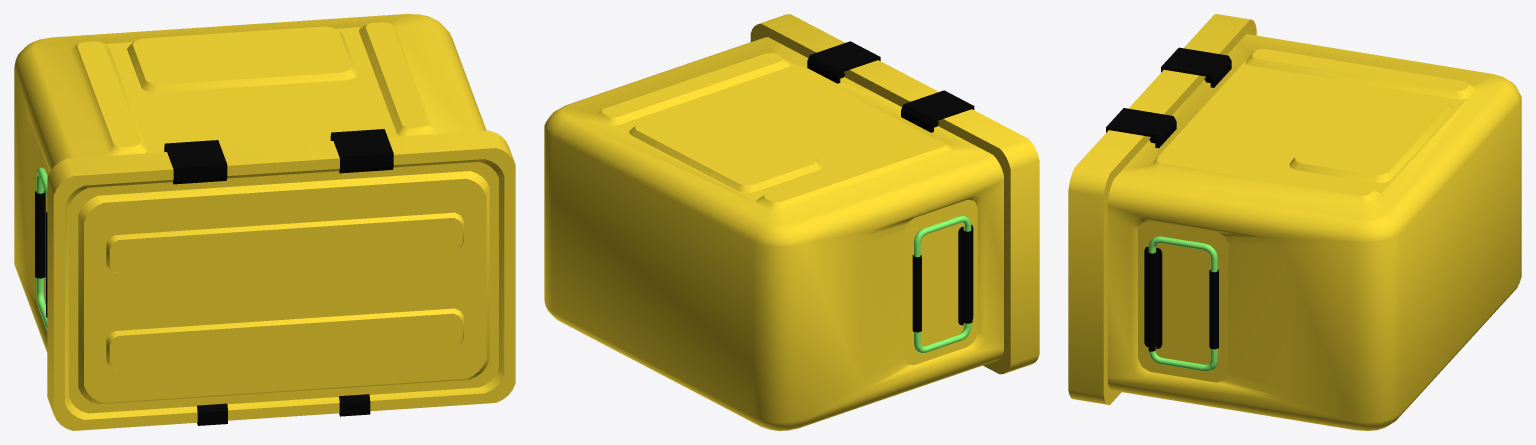
File: ToyObject_186.fbx
3 renders of one model, left to right at view 1: azimuth 30°, elevation 25°; view 2: azimuth 150°, elevation 25°; view 3: azimuth 270°, elevation 25°, orthographic. The views are drawn at different scales.
Parts seen in each view (by area): view 1: Object.022; view 2: Object.022; view 3: Object.022.
Part boxes in pixels (x1,y1,x2,y2): Object.022: [14, 14, 515, 430]; Object.022: [544, 14, 1039, 430]; Object.022: [1068, 14, 1521, 430].
Bounding box in the file's own units: 0.1766 × 0.0927 × 0.1613.
